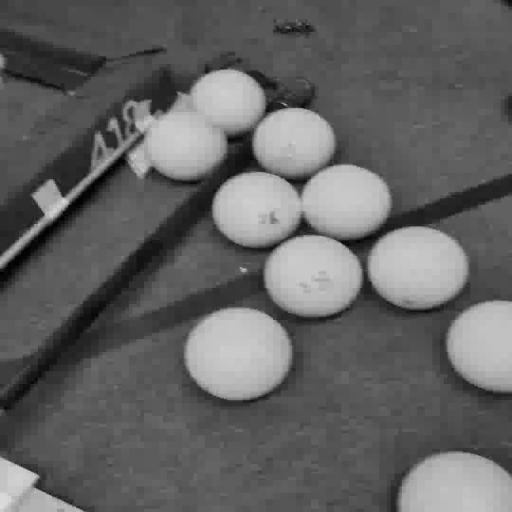fuel: (184, 308, 292, 401), (367, 227, 469, 310), (264, 235, 363, 317), (301, 165, 392, 241), (213, 171, 301, 248), (397, 452, 511, 511), (144, 109, 227, 181), (252, 108, 336, 179), (447, 301, 511, 393), (190, 70, 265, 136)
